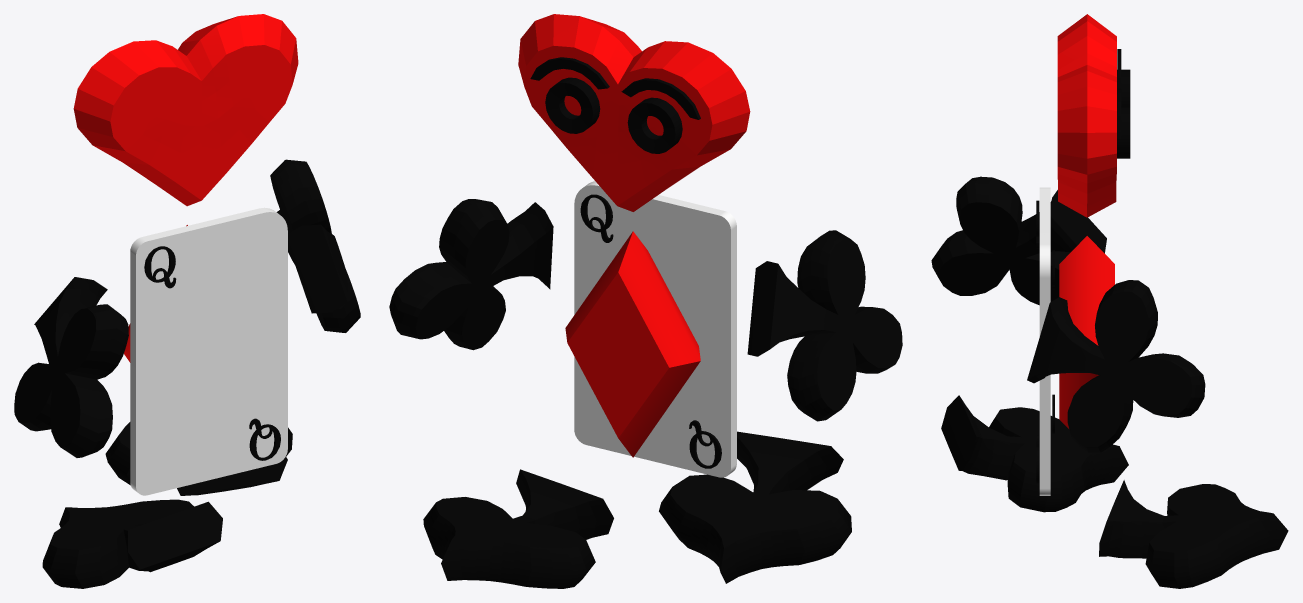
Rendered from Polymorph.fbx.
The picture shows the model from 3 angles, left to right: view 1: azimuth 30°, elevation 25°; view 2: azimuth 150°, elevation 25°; view 3: azimuth 270°, elevation 25°; orthographic projection. The views are drawn at different scales.
Visible parts, largest first — view 1: Polymorph; view 2: Polymorph; view 3: Polymorph.
Part boxes in pixels (box(x1,y1,x2,y2)): Polymorph: box(14, 14, 360, 588); Polymorph: box(389, 14, 902, 588); Polymorph: box(931, 14, 1288, 588).
Size of the model in its own units: 1.5 by 1.93 by 1.28.
